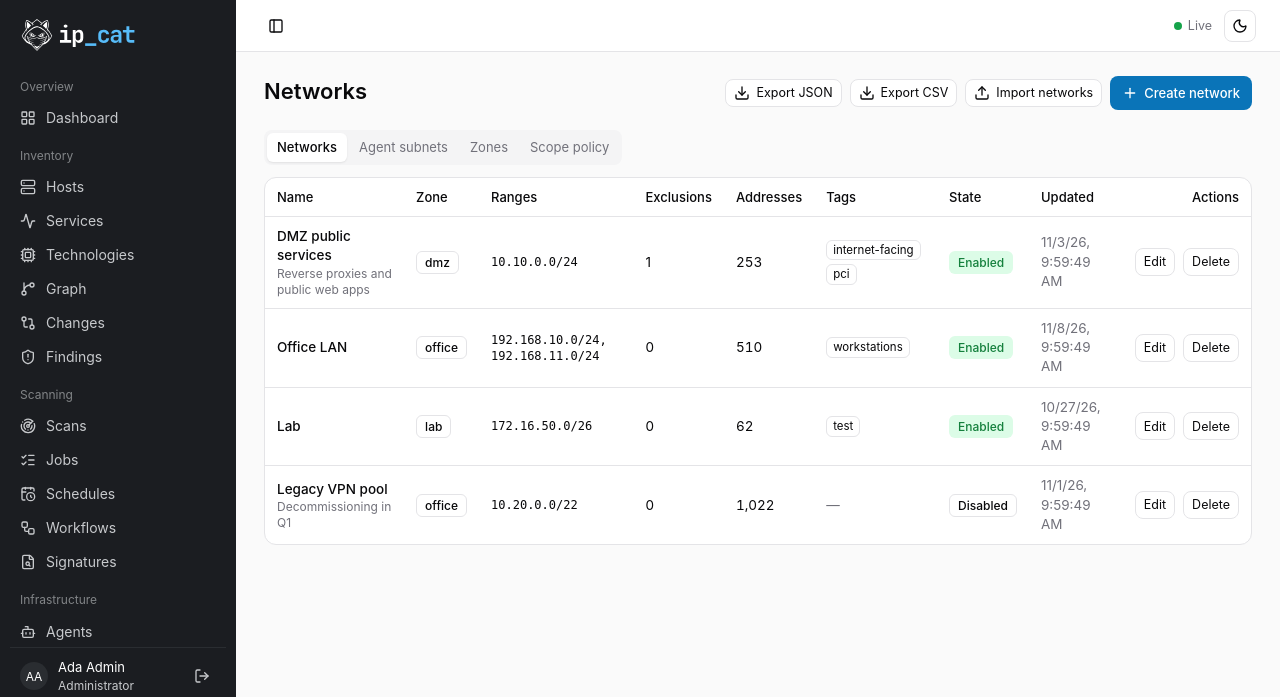
Test: agent subnets › lets only administrators widen the scope policy, after a confirmation
Click the tab "Agent subnets". click: (403, 147)
box: x1=349 y1=133 x2=458 y2=162
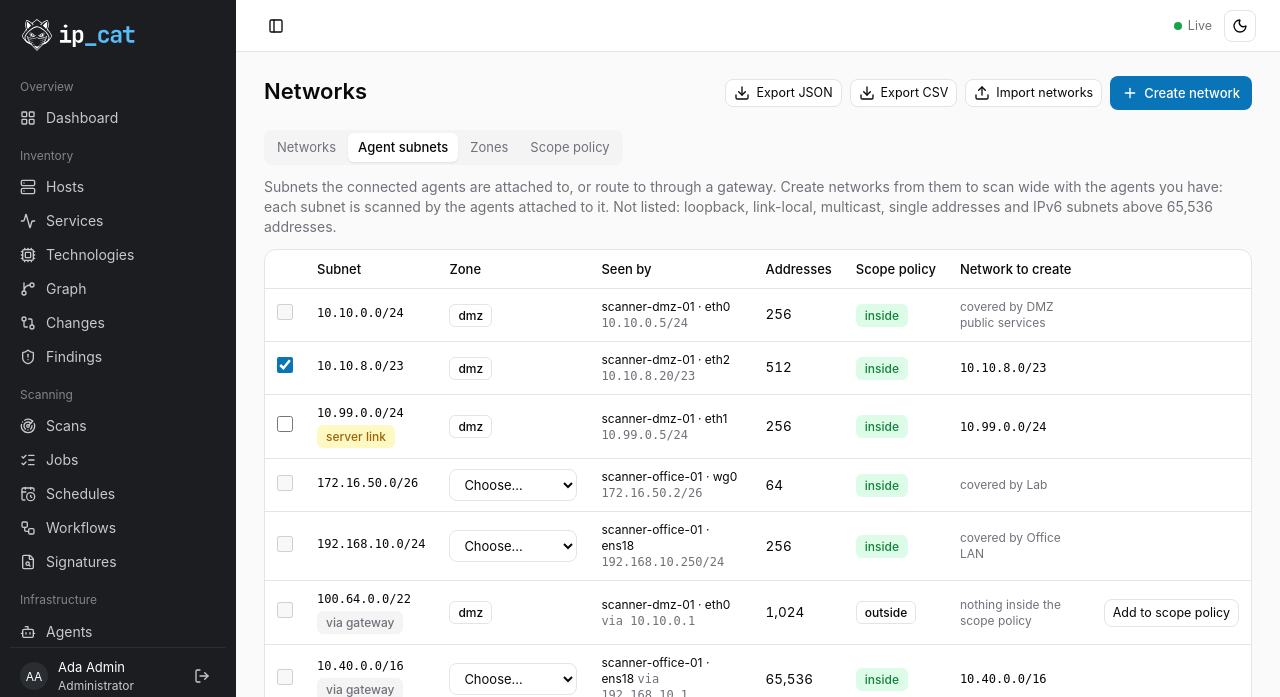
Expected: the checkbox named "Select 10.10.8.0/23" is shown, x1=277 y1=358 x2=293 y2=374
Expected: the text "outside" is shown, x1=856 y1=601 x2=916 y2=624
Click the button "Add to scope policy". click: (1171, 613)
box: x1=1104 y1=599 x2=1239 y2=627
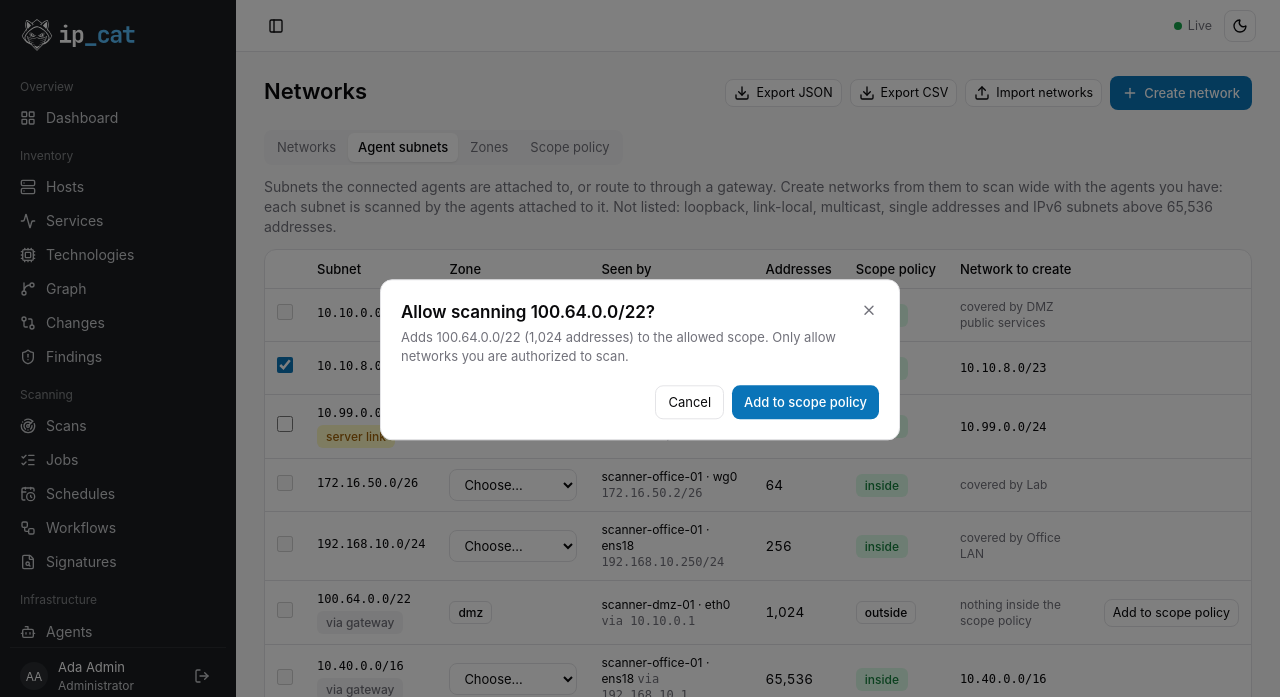
Expected: the text "Only allow networks you are authorized to scan" is shown, x1=401 y1=330 x2=836 y2=364
Click the button "Add to scope policy". click: (806, 403)
box: x1=732 y1=386 x2=879 y2=420
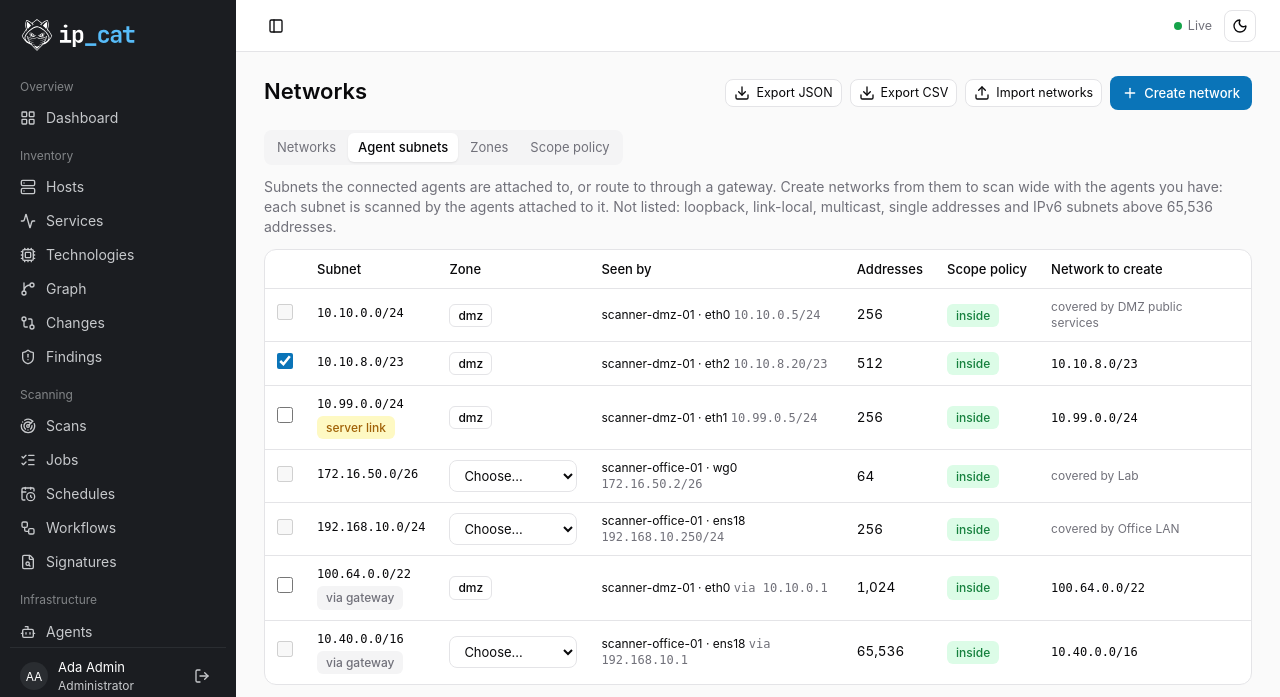
Expected: the text "100.64.0.0/22" is shown 2 times, x1=317 y1=566 x2=425 y2=582; x1=1051 y1=581 x2=1145 y2=595
Expected: the text "inside" in the row of "via 10.10.0.1" is shown, x1=956 y1=580 x2=990 y2=595
